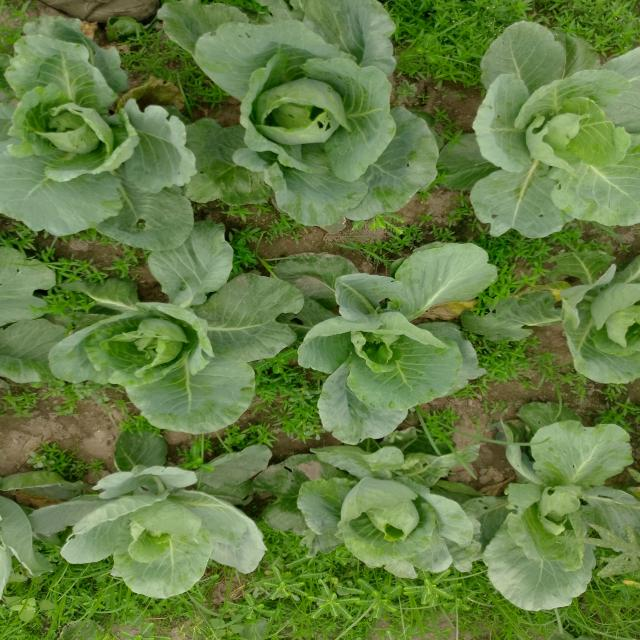Cabbage: (181, 0, 435, 221), (218, 250, 516, 435), (443, 1, 640, 276), (0, 19, 224, 232), (456, 408, 640, 630), (50, 435, 293, 600), (58, 246, 282, 418), (286, 438, 488, 597), (546, 270, 640, 418), (0, 237, 42, 399), (0, 469, 42, 620)
